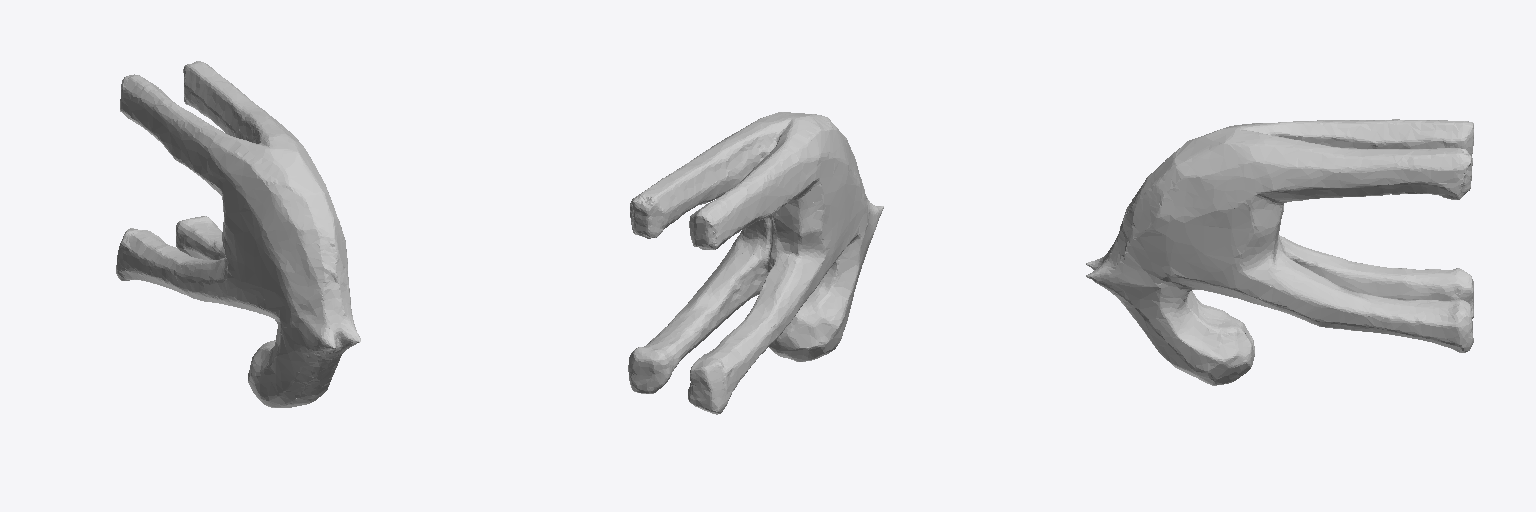
Rendered from swedish_moose.obj.
3 views of the same model, side by side, from view 1: azimuth 30°, elevation 25°; view 2: azimuth 150°, elevation 25°; view 3: azimuth 270°, elevation 25° (orthographic).
Parts seen in each view (by area): view 1: Swedish_Moose; view 2: Swedish_Moose; view 3: Swedish_Moose.
Part boxes in pixels (left/top/right/bottom): Swedish_Moose: left=116, top=61, right=360, bottom=407; Swedish_Moose: left=628, top=112, right=883, bottom=414; Swedish_Moose: left=1086, top=119, right=1473, bottom=385.
Size of the model in its own units: 43.33 by 105 by 148.